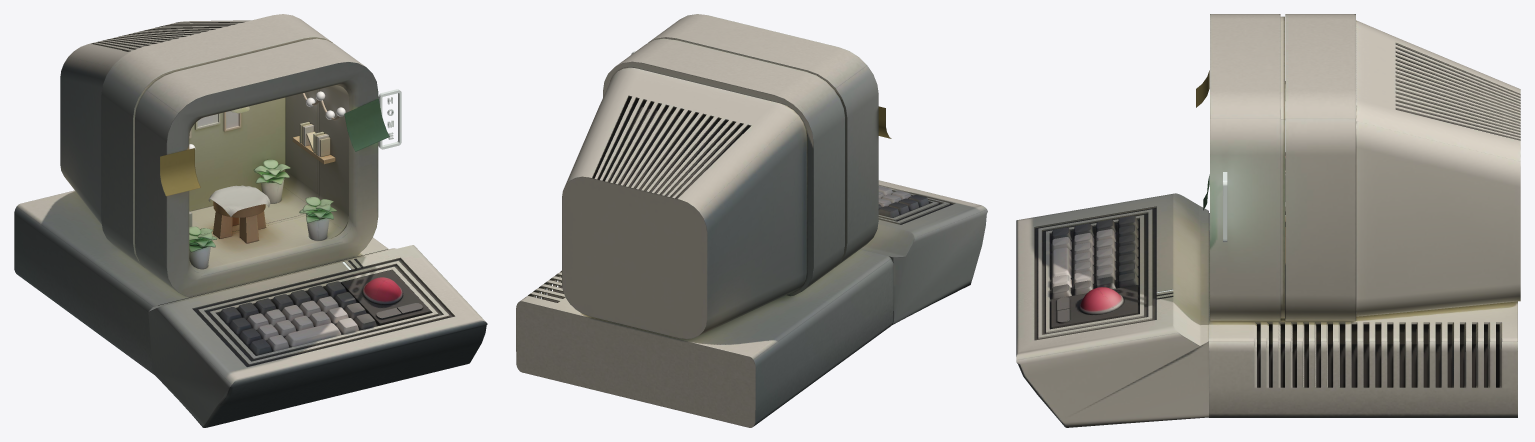
The picture shows the model from 3 angles, left to right: view 1: azimuth 30°, elevation 25°; view 2: azimuth 150°, elevation 25°; view 3: azimuth 270°, elevation 25°; orthographic projection. The views are drawn at different scales.
Parts seen in each view (by area): view 1: Frente 01, Plane, Frente 03, Base 01, Frente 04, Cube.024, Plane.001, Plane.002, Plane.033, Sphere, Cube.023, Frente 02 (+2 smaller); view 2: Frente 04, Base 01, Frente 03, Frente 01, Plane, Cube.048; view 3: Frente 04, Plane, Base 01, Frente 03, Frente 01, Cube.047, Cube.048, Cube.024, Frente 02, Sphere, Cube.023.
Part boxes in pixels (box(x1,y1,x2,y2)): Frente 01: box(135, 38, 378, 296); Plane: box(148, 245, 487, 427); Frente 03: box(101, 14, 332, 267); Base 01: box(14, 190, 388, 374); Frente 04: box(60, 20, 285, 224); Cube.024: box(341, 270, 430, 325); Plane.001: box(344, 98, 389, 151); Plane.002: box(160, 148, 200, 196); Plane.033: box(208, 185, 270, 216); Sphere: box(362, 277, 402, 304); Cube.023: box(284, 323, 341, 346); Frente 02: box(135, 40, 319, 243); Frente 04: box(562, 67, 807, 339); Base 01: box(516, 249, 893, 427); Frente 03: box(603, 38, 844, 295); Frente 01: box(648, 14, 878, 267); Plane: box(860, 180, 987, 324); Cube.048: box(592, 96, 750, 198); Frente 04: box(1356, 20, 1520, 316); Plane: box(1016, 193, 1208, 427); Base 01: box(1209, 213, 1517, 417); Frente 03: box(1285, 14, 1355, 321); Frente 01: box(1210, 14, 1280, 321); Cube.047: box(1257, 324, 1499, 387); Cube.048: box(1395, 52, 1509, 137); Cube.024: box(1051, 285, 1138, 328); Frente 02: box(1280, 16, 1284, 318); Sphere: box(1079, 287, 1123, 314); Cube.023: box(1051, 247, 1071, 280).
Size of the model in its own units: 2.63 by 2.51 by 3.82.
Materials: 1 (1 with a texture image).
